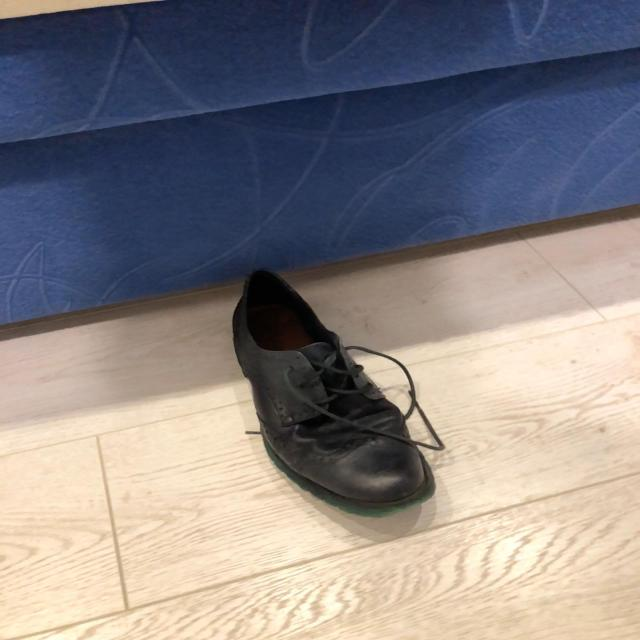shoe: (230, 271, 436, 512)
